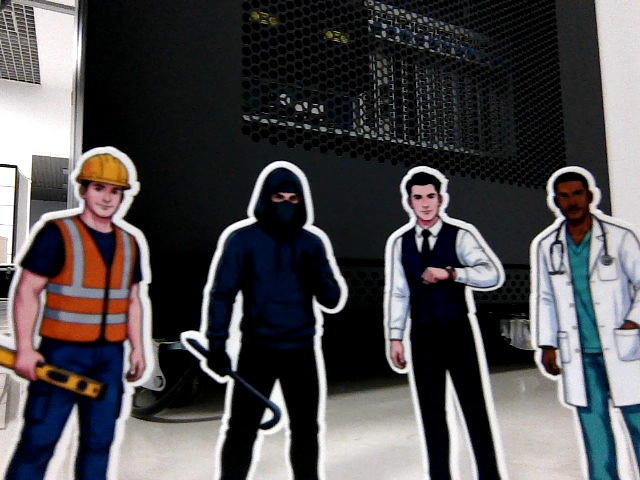community_person: (1, 136, 170, 480), (374, 158, 515, 480), (521, 158, 640, 480)
outsider: (182, 146, 357, 478)
